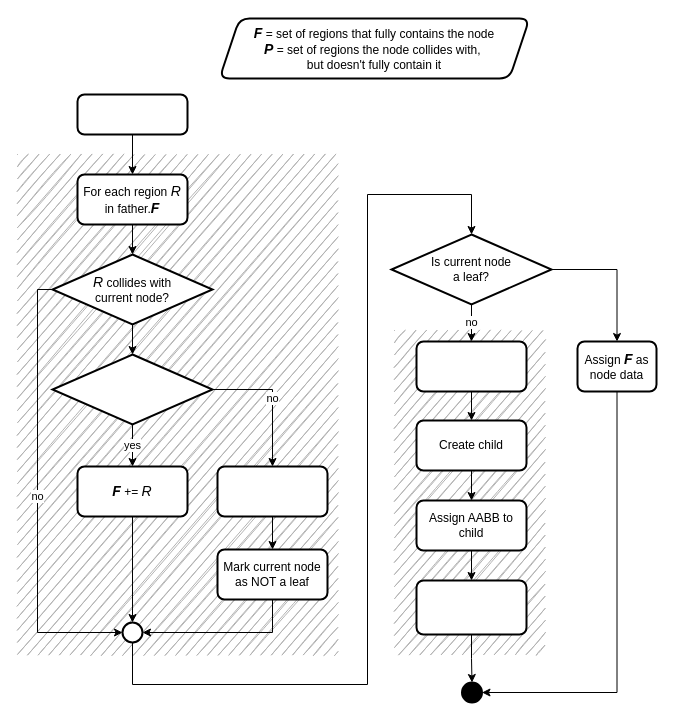
Some shapes in this 674 by 720 pixel diagram are drawn without their labels. Here are the shapes that lost their labels. From the top down, the centre of each, then its label:
At (132,114): "F = father. F".
At (471,366): "For each one of the 8 children".
At (132,389): "R fully contains current node?".
At (272,491): "P += R".
At (471,607): "Recurse by passing F and P as arguments".
